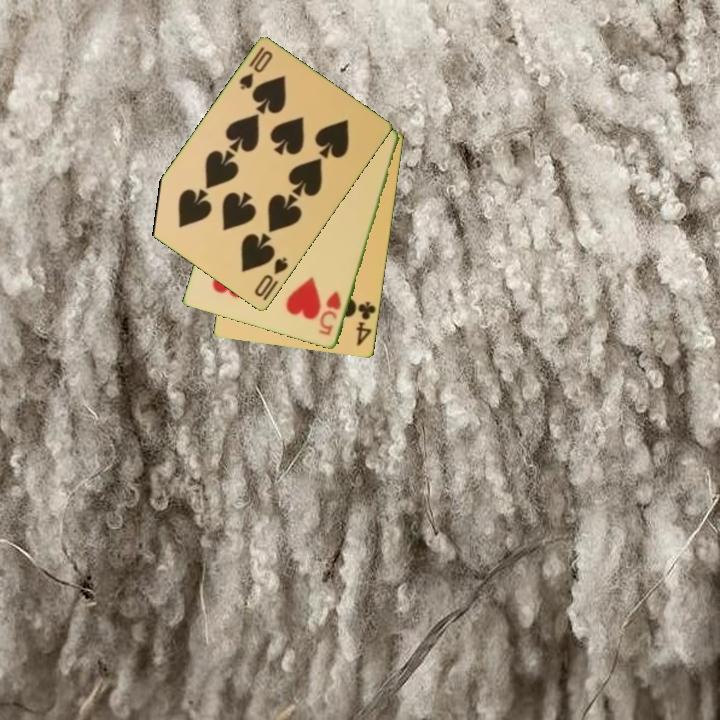10s: (235, 43, 276, 93), (251, 254, 291, 300)
4c: (353, 298, 379, 349)
5h: (315, 288, 344, 339)
